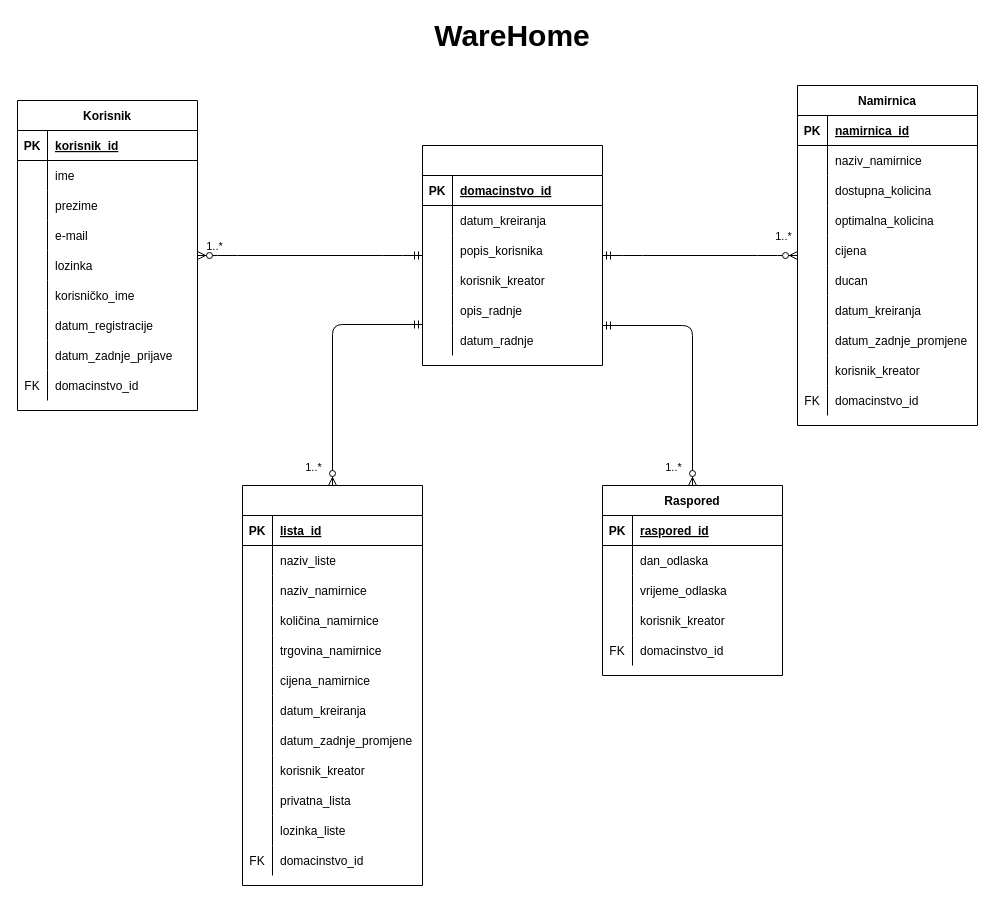
Some shapes in this 995 by 903 pixel diagram are drawn without their labels. Each missing label, with the box of its shape:
Domaćinstvo: (422, 144, 602, 366)
lista_za_kupovinu: (242, 484, 422, 886)
